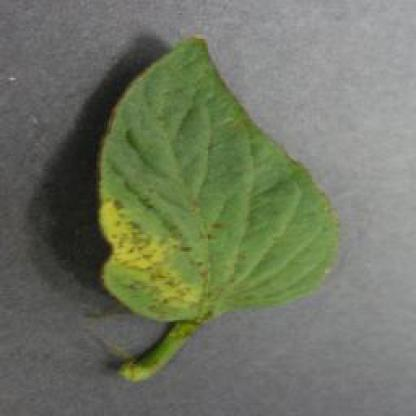bad leaf: (106, 51, 318, 356)
